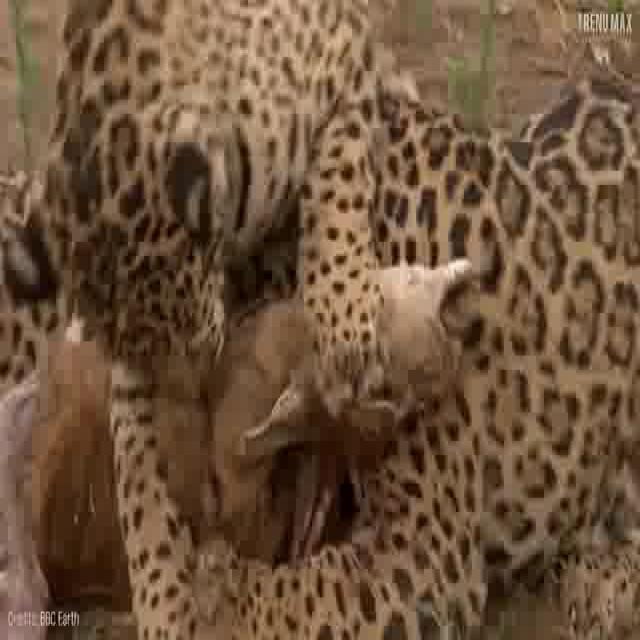Jaguar: (0, 0, 385, 640), (223, 66, 640, 640)
